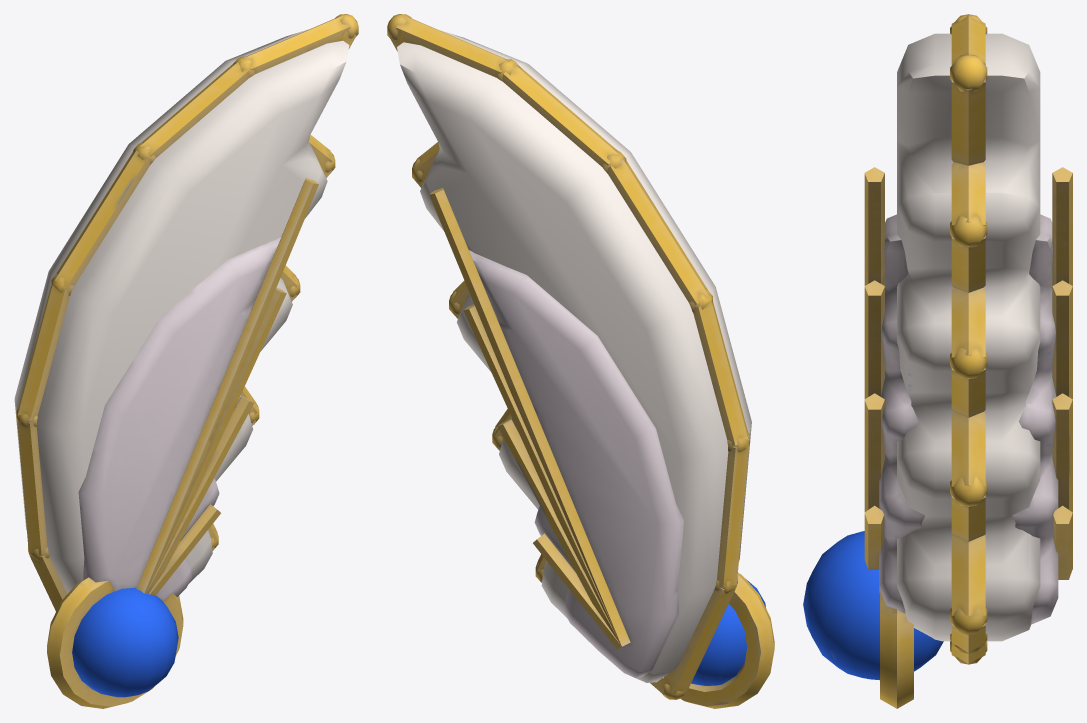
Rendered from hs_coin.fbx.
The picture shows the model from 3 angles, left to right: view 1: azimuth 30°, elevation 25°; view 2: azimuth 150°, elevation 25°; view 3: azimuth 270°, elevation 25°; orthographic projection. The views are drawn at different scales.
Parts seen in each view (by area): view 1: hs_coin; view 2: hs_coin; view 3: hs_coin.
Part boxes in pixels (left/top/right/bottom): hs_coin: left=14, top=14, right=358, bottom=708; hs_coin: left=387, top=14, right=774, bottom=708; hs_coin: left=803, top=14, right=1072, bottom=708.
Size of the model in its own units: 0.5828 by 0.9972 by 0.3014.
4 materials, 4 textured.
